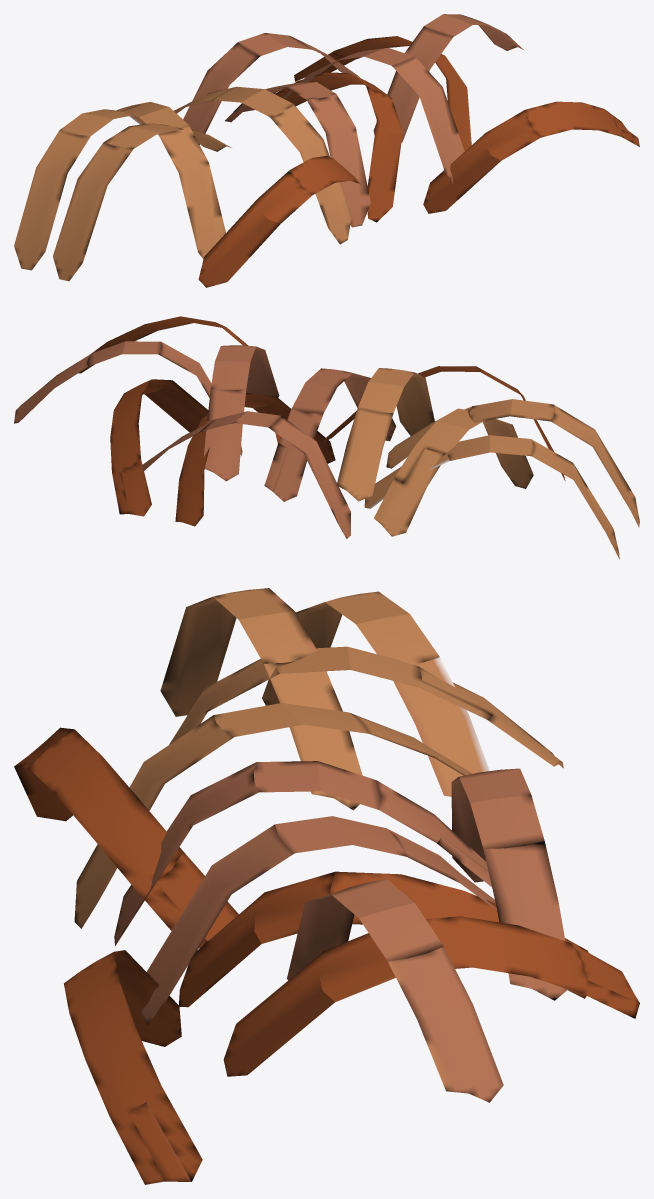
The model's file is bawang goreng.fbx.
3 views of the same model, one above another, from view 1: azimuth 30°, elevation 25°; view 2: azimuth 150°, elevation 25°; view 3: azimuth 270°, elevation 25° (orthographic). The views are drawn at different scales.
Visible parts, largest first — view 1: Ase.001_Baked; view 2: Ase.001_Baked; view 3: Ase.001_Baked.
Boxes of the visible parts, box(x1,y1,x2,y2) form: Ase.001_Baked: box(14, 14, 639, 287); Ase.001_Baked: box(14, 316, 639, 559); Ase.001_Baked: box(14, 588, 639, 1184).
Bounding box in the file's own units: 54.23 × 11.26 × 29.27.
